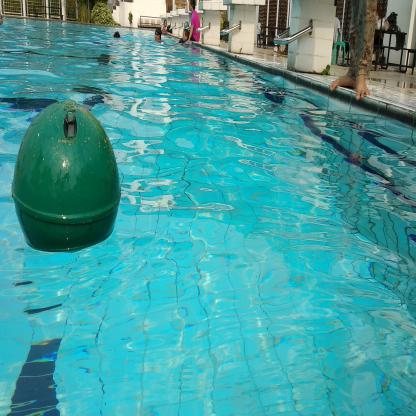green_buoy: (10, 100, 125, 260)
